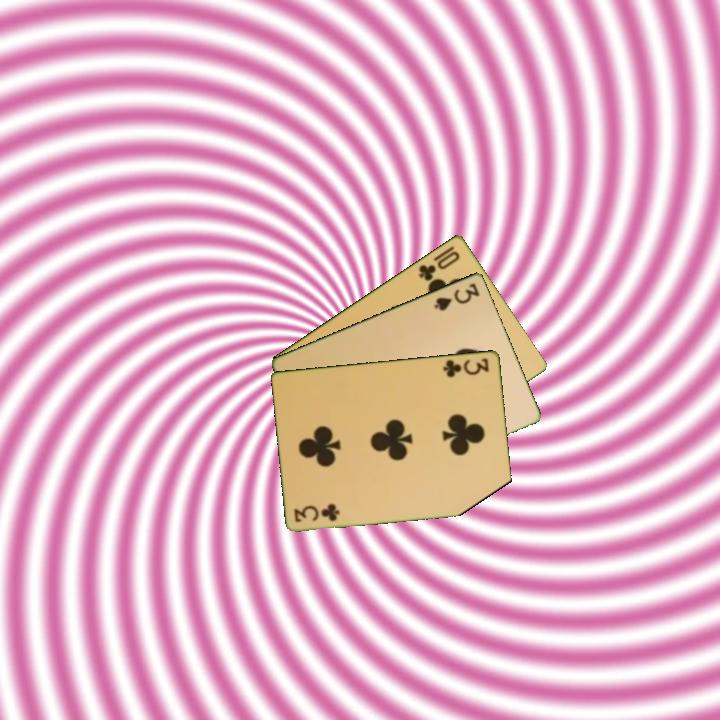10c: (415, 247, 463, 284)
3c: (440, 354, 492, 380), (291, 501, 343, 525)
3s: (430, 279, 483, 314)
